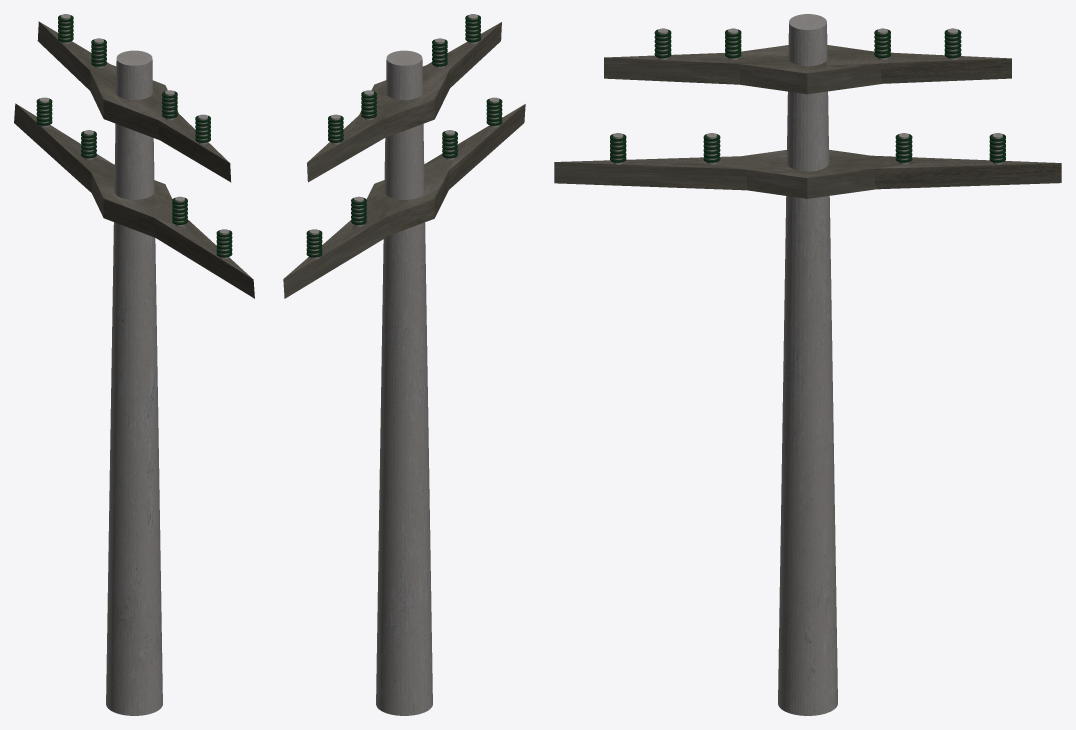
The model's file is utility_pole.obj.
The picture shows the model from 3 angles, left to right: view 1: azimuth 30°, elevation 25°; view 2: azimuth 150°, elevation 25°; view 3: azimuth 270°, elevation 25°; orthographic projection. The views are drawn at different scales.
Parts seen in each view (by area): view 1: pole, top_1, top_2, insulator_4, insulator_2, insulator_3, insulator_8, insulator_5, insulator_1, insulator_7, insulator_6; view 2: pole, top_1, top_2, insulator_2, insulator_4, insulator_7, insulator_6, insulator_5, insulator_1, insulator_3, insulator_8; view 3: pole, top_1, top_2.
Part boxes in pixels (x1,y1,x2,y2): pole: (106,50,162,715); top_1: (14,103,254,298); top_2: (37,21,231,182); insulator_4: (216,229,232,259); insulator_2: (36,97,52,127); insulator_3: (172,196,187,226); insulator_8: (195,114,210,144); insulator_5: (91,38,106,68); insulator_1: (81,130,96,159); insulator_7: (162,90,177,120); insulator_6: (58,14,73,43); pole: (376,50,432,715); top_1: (283,104,525,298); top_2: (307,22,501,182); insulator_2: (306,229,322,259); insulator_4: (486,97,502,127); insulator_7: (432,38,447,68); insulator_6: (328,114,343,144); insulator_5: (361,90,376,120); insulator_1: (351,196,366,226); insulator_3: (442,130,457,160); insulator_8: (465,14,480,43); pole: (778,14,837,715); top_1: (554,149,1061,198); top_2: (604,45,1011,94).
Bounding box in the file's own units: 0.6119 × 6.18 × 4.17.
